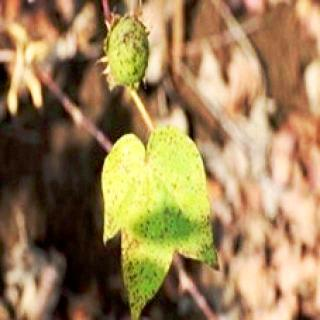leaf spot: (100, 126, 220, 320), (108, 9, 152, 79)
